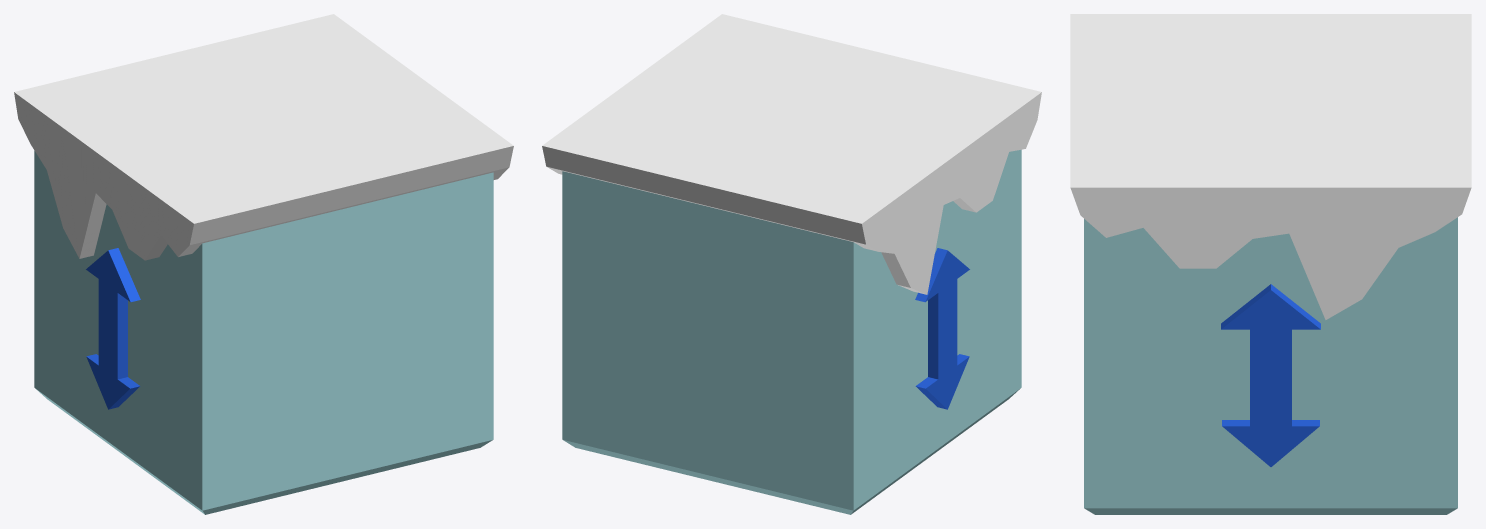
File: VerticalCube.fbx
3 renders of one model, left to right at view 1: azimuth 30°, elevation 25°; view 2: azimuth 150°, elevation 25°; view 3: azimuth 270°, elevation 25°, orthographic. The views are drawn at different scales.
Visible parts, largest first — view 1: Cube; view 2: Cube; view 3: Cube.
Boxes of the visible parts, x1,y1,x2,y2 form: Cube: (14,14,513,514); Cube: (542,14,1041,514); Cube: (1070,14,1471,514).
Bounding box in the file's own units: 220 × 200 × 214.
